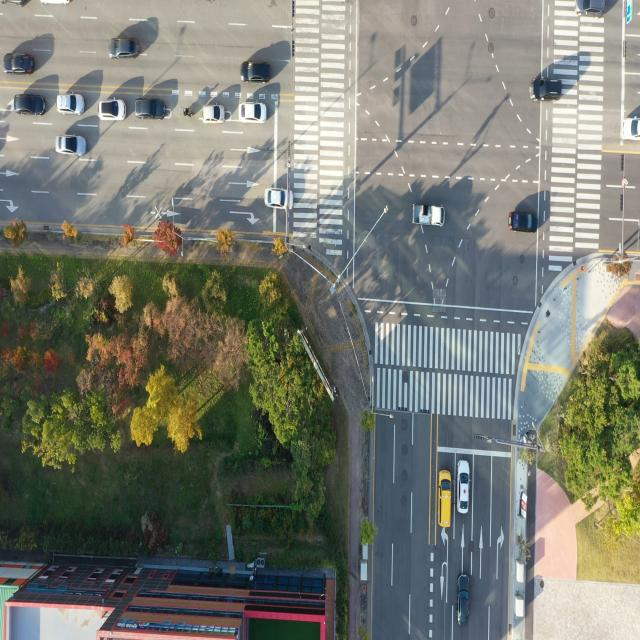car: (527, 77, 562, 105), (438, 468, 453, 530), (134, 94, 168, 120), (456, 574, 472, 627), (14, 93, 46, 118), (236, 98, 266, 124), (5, 53, 36, 78), (458, 461, 472, 516), (507, 207, 536, 233), (108, 36, 139, 60), (201, 101, 227, 128), (57, 135, 85, 158), (573, 0, 605, 20), (243, 62, 270, 84), (619, 114, 640, 140), (60, 94, 84, 116), (101, 98, 125, 120), (266, 187, 288, 209)
small_truck: (411, 205, 444, 229)
